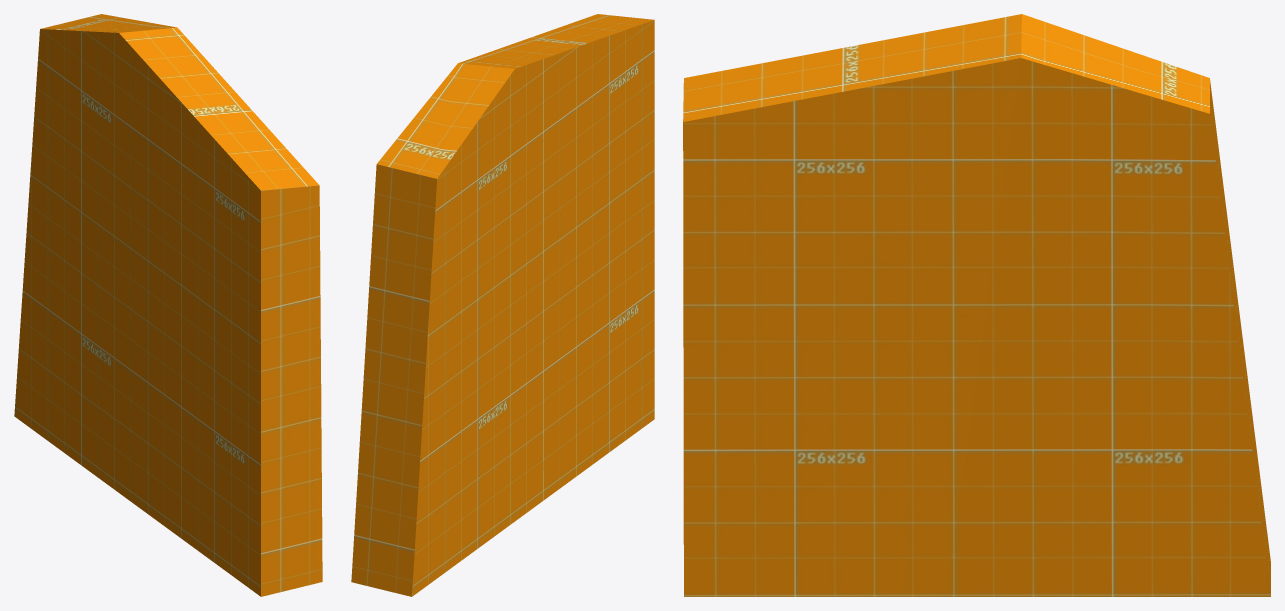
The model's file is cover.glb.
3 renders of one model, left to right at view 1: azimuth 30°, elevation 25°; view 2: azimuth 150°, elevation 25°; view 3: azimuth 270°, elevation 25°, orthographic. The views are drawn at different scales.
Parts seen in each view (by area): view 1: Cube; view 2: Cube; view 3: Cube.
Boxes of the visible parts, <box> form: Cube: <box>14,14,322,596</box>; Cube: <box>351,14,654,596</box>; Cube: <box>683,14,1270,596</box>.
Bounding box in the file's own units: 0.7152 × 5.11 × 4.97.
Materials: 1 (1 with a texture image).
